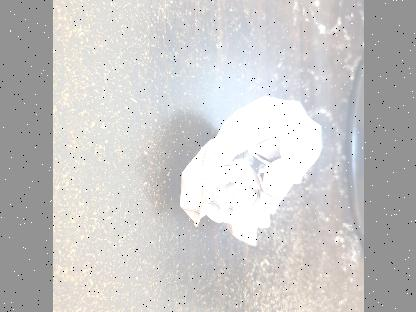Others: (168, 93, 326, 239)
